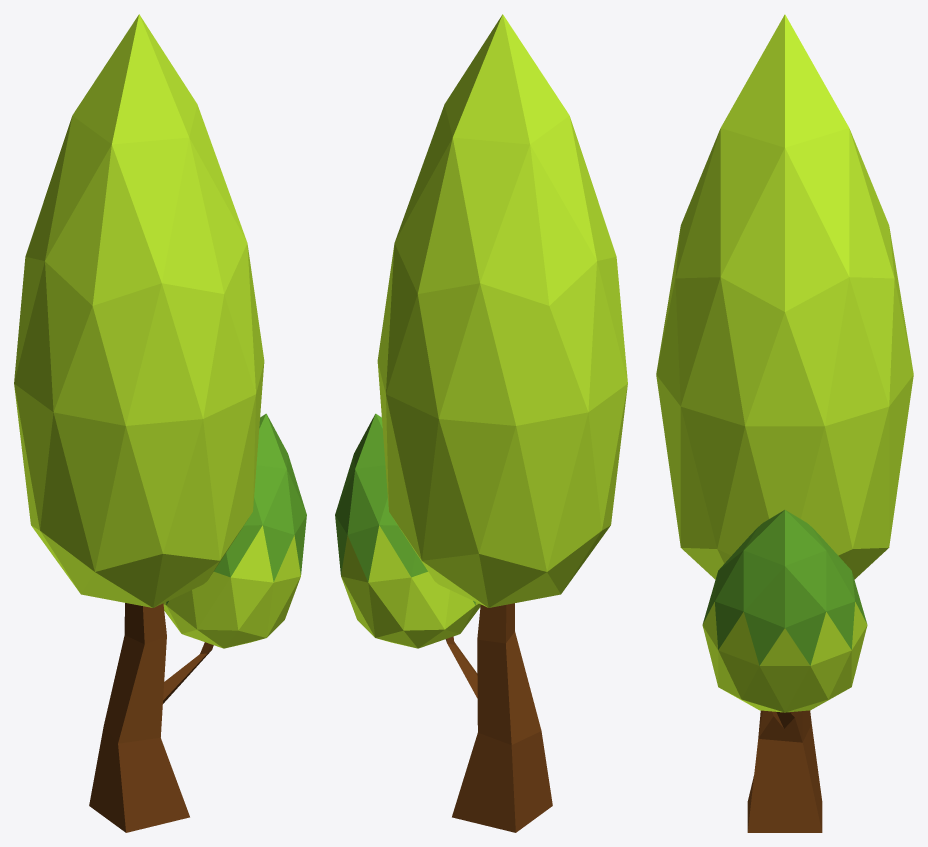
Rendered from Tree4.fbx.
3 views of the same model, side by side, from view 1: azimuth 30°, elevation 25°; view 2: azimuth 150°, elevation 25°; view 3: azimuth 270°, elevation 25° (orthographic).
Parts seen in each view (by area): view 1: Tree; view 2: Tree; view 3: Tree.
Boxes of the visible parts, x1,y1,x2,y2 form: Tree: [14, 14, 306, 832]; Tree: [335, 14, 627, 832]; Tree: [656, 14, 913, 832].
Size of the model in its own units: 413 by 1199 by 349.
